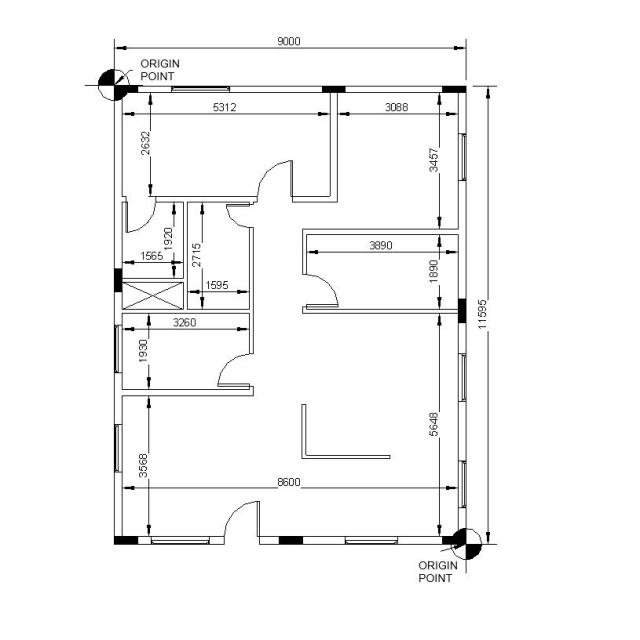Column: (442, 536, 467, 545), (114, 536, 138, 545), (279, 536, 303, 545), (114, 268, 122, 292), (458, 299, 466, 323), (442, 86, 467, 93), (322, 86, 345, 93), (114, 85, 122, 101), (123, 85, 138, 93), (458, 528, 466, 536)
Door: (224, 501, 260, 545), (257, 160, 293, 203), (217, 353, 254, 390), (302, 274, 339, 310), (122, 196, 156, 233), (226, 202, 253, 228)
Window: (150, 536, 210, 545), (345, 536, 398, 545), (458, 353, 467, 402), (171, 86, 230, 93), (458, 133, 466, 181), (114, 325, 122, 373), (114, 424, 122, 472), (458, 461, 466, 508)
